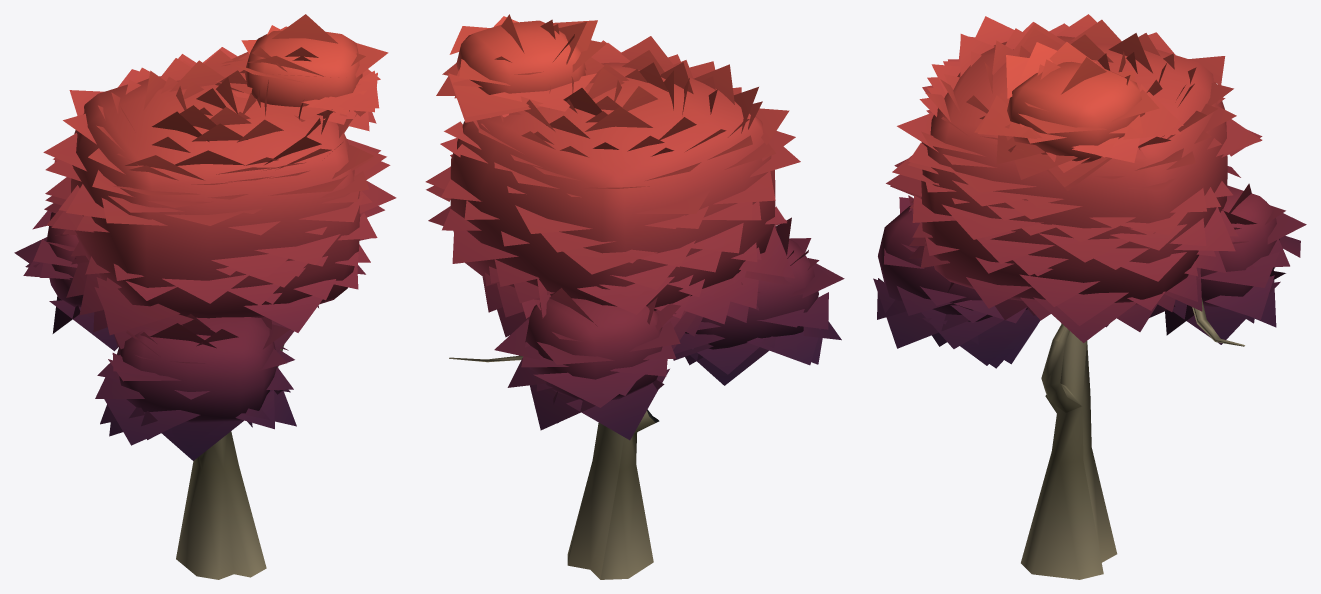
Rendered from Tree_7C.fbx.
The picture shows the model from 3 angles, left to right: view 1: azimuth 30°, elevation 25°; view 2: azimuth 150°, elevation 25°; view 3: azimuth 270°, elevation 25°; orthographic projection. The views are drawn at different scales.
Visible parts, largest first — view 1: Tree_7C; view 2: Tree_7C; view 3: Tree_7C.
Part boxes in pixels (box(x1,y1,x2,y2)): Tree_7C: box(14, 14, 396, 579); Tree_7C: box(425, 14, 844, 579); Tree_7C: box(873, 14, 1306, 579).
Bounding box in the file's own units: 599 × 911 × 650.
